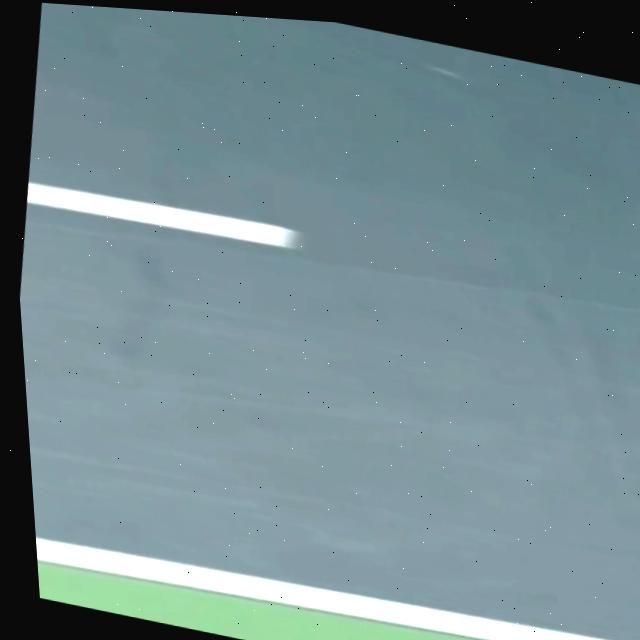center: (27, 181, 300, 247)
right: (36, 536, 615, 640)
